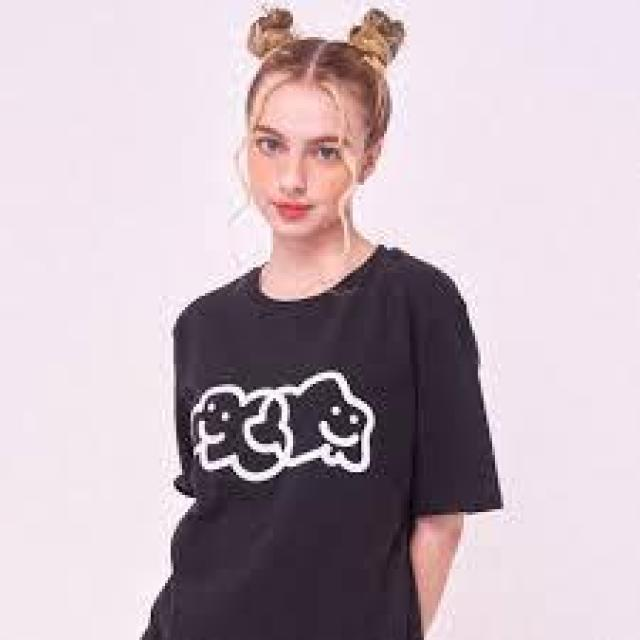Tshirt: (136, 239, 504, 640)
